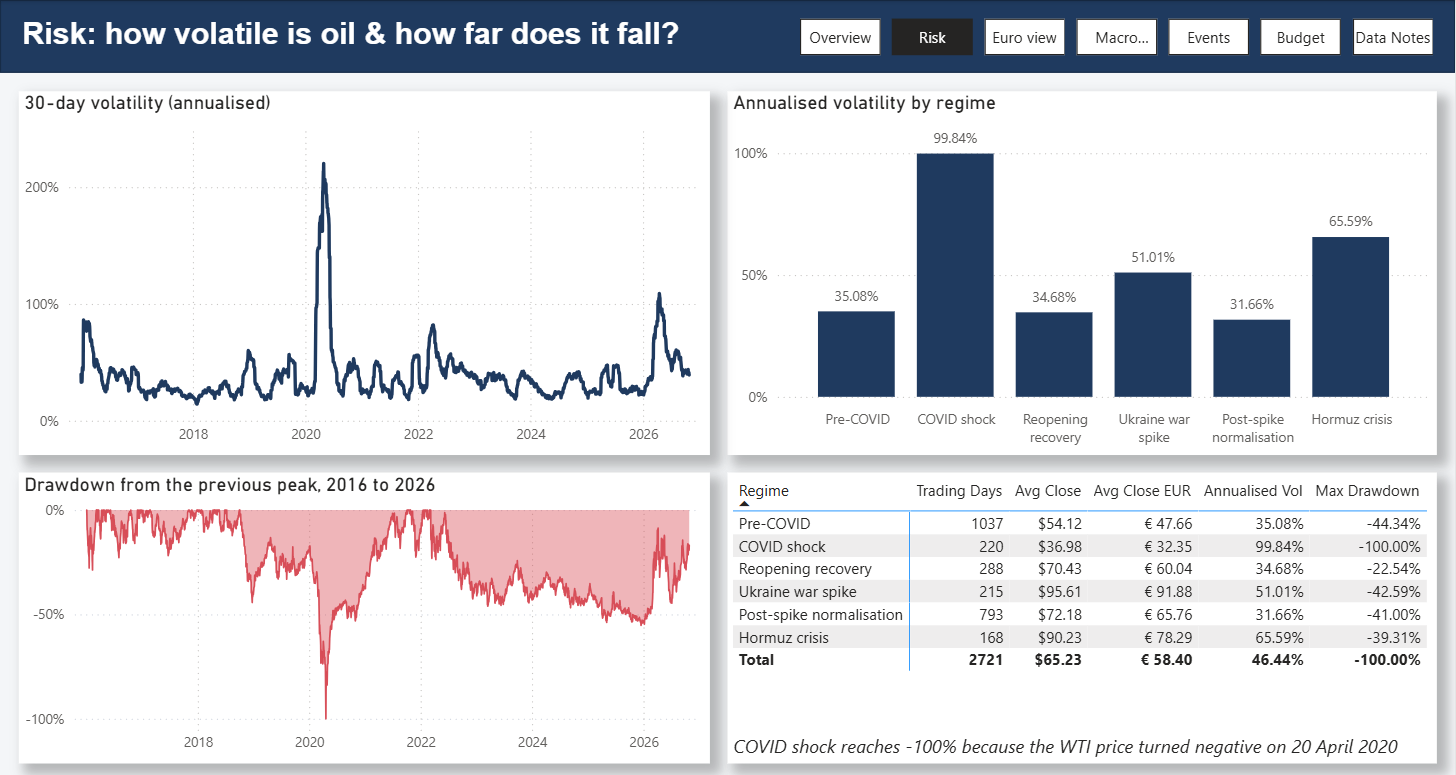

The dashboard page shown, as its layout file describes it:
{"tool":"powerbi","page":{"name":"Risk","canvas":[1280,720],"ordinal":1},"visuals":[{"type":"shape","box":[0,0,1280,64],"z":0},{"type":"columnChart","title":"Annualised volatility by regime","fields":{"Category":["dim_regime.regime"],"Y":["fact_daily.Annualised Vol"]},"box":[640,80,624,320],"z":1000},{"type":"lineChart","title":"30-day volatility (annualised)","fields":{"Category":["fact_daily.date"],"Y":["fact_daily.Vol 30D"]},"box":[16,80,608,320],"z":2000},{"type":"areaChart","title":"Drawdown from the previous peak, 2016 to 2026","fields":{"Category":["fact_daily.date"],"Y":["fact_daily.Drawdown"]},"box":[16,416,608,256],"z":3000},{"type":"pivotTable","fields":{"Rows":["dim_regime.regime"],"Values":["fact_daily.Trading Days","fact_daily.Avg Close","fact_daily.Avg Close EUR","fact_daily.Annualised Vol","fact_daily.Max Drawdown"]},"box":[640,416,624,256],"z":4000},{"type":"textbox","box":[0,10,608,48],"z":5000},{"type":"textbox","box":[640,640,624,32],"z":6000},{"type":"pageNavigator","box":[704,16,560,32],"z":7000}]}

Visuals, with their boxes on the page's 1280x720 design canvas (x1, y1, x2, y2). These are canvas units, not pixel positions in the 1456x775 screenshot, which may show the page scaled, cropped or inside an application window:
shape: 0,0,1280,64
"Annualised volatility by regime" columnChart: 640,80,1264,400
"30-day volatility (annualised)" lineChart: 16,80,624,400
"Drawdown from the previous peak, 2016 to 2026" areaChart: 16,416,624,672
pivotTable - dim_regime.regime x fact_daily.Trading Days: 640,416,1264,672
textbox: 0,10,608,58
textbox: 640,640,1264,672
pageNavigator: 704,16,1264,48
